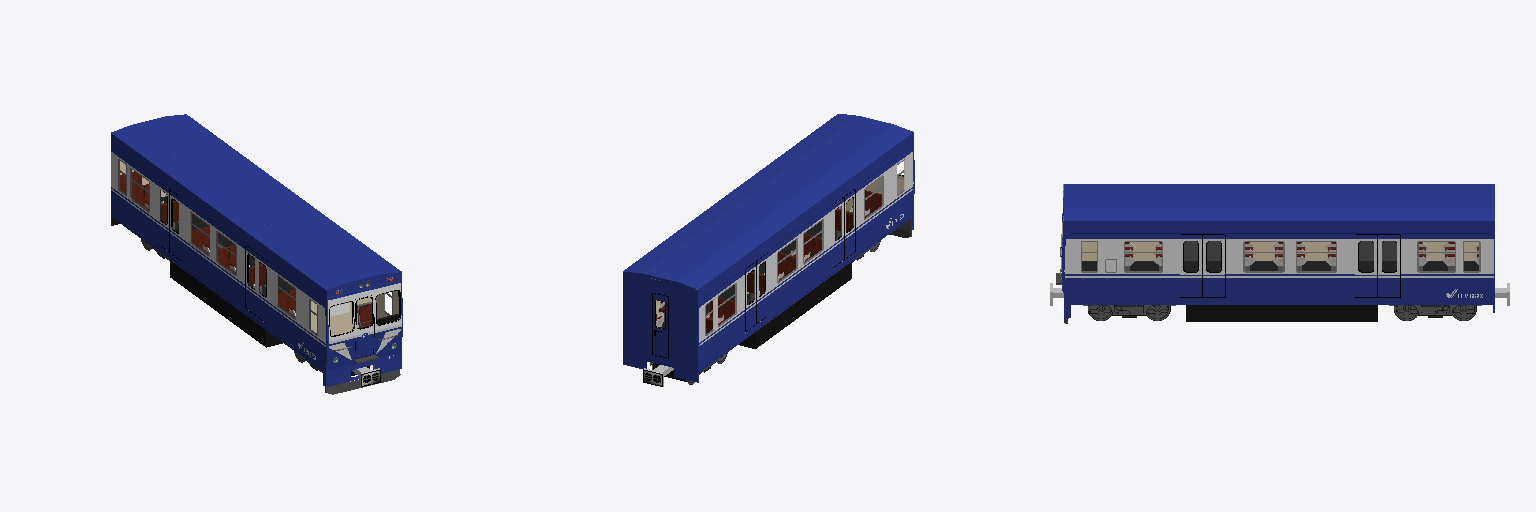
The picture shows the model from 3 angles: view 1: azimuth 30°, elevation 25°; view 2: azimuth 150°, elevation 25°; view 3: azimuth 270°, elevation 25°; orthographic projection.
Parts seen in each view (by area): view 1: body, body_inside, bogies, door_RB, door_RF; view 2: body, body_inside, bogies, door_RF, door_RB; view 3: body, bogies, body_inside, door_LB, door_LF, door_RB_inside, door_RF_inside.
Boxes of the visible parts, box(x1,y1,x2,y2) form: body: box(111, 114, 402, 394); body_inside: box(112, 160, 399, 335); bogies: box(141, 239, 380, 386); door_RB: box(158, 181, 256, 315); door_RF: box(169, 190, 267, 323); body: box(623, 114, 914, 382); body_inside: box(656, 160, 904, 334); bogies: box(643, 241, 880, 386); door_RF: box(757, 189, 855, 323); door_RB: box(745, 197, 843, 331); body: box(1060, 184, 1494, 323); bogies: box(1050, 273, 1509, 321); body_inside: box(1062, 184, 1478, 271); door_LB: box(1180, 234, 1377, 297); door_LF: box(1203, 234, 1400, 297); door_RB_inside: box(1207, 241, 1396, 260); door_RF_inside: box(1184, 241, 1373, 260).
Bounding box in the file's own units: 2.37 × 3.39 × 12.43.
Materials: 45 (41 with a texture image).